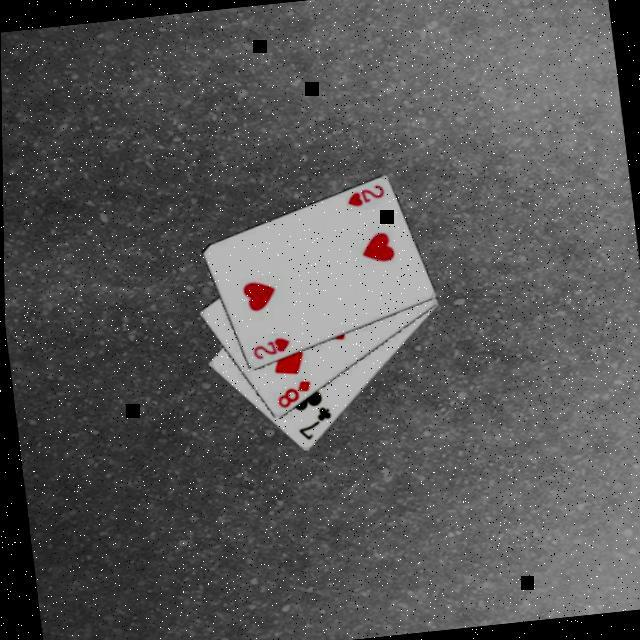2H: (342, 180, 388, 209), (248, 333, 292, 362)
7C: (292, 400, 336, 442)
8D: (272, 375, 314, 411)
